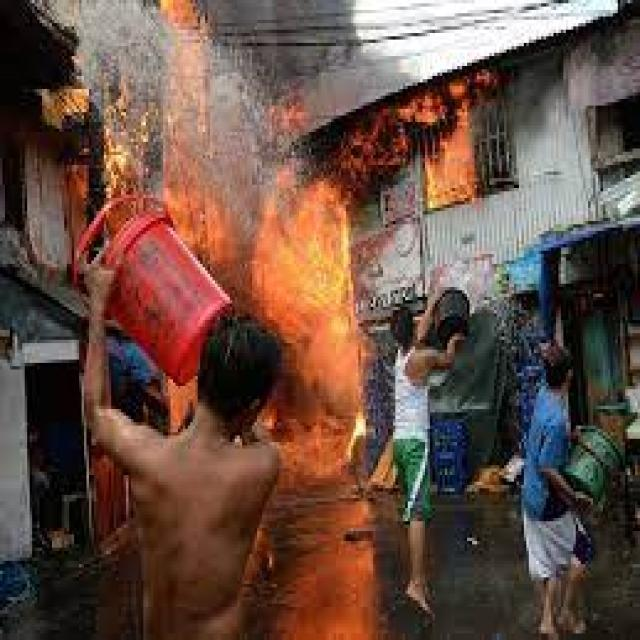Fire: (281, 207, 364, 470), (62, 86, 184, 190), (408, 98, 498, 220)
Smoke: (213, 0, 417, 129)
